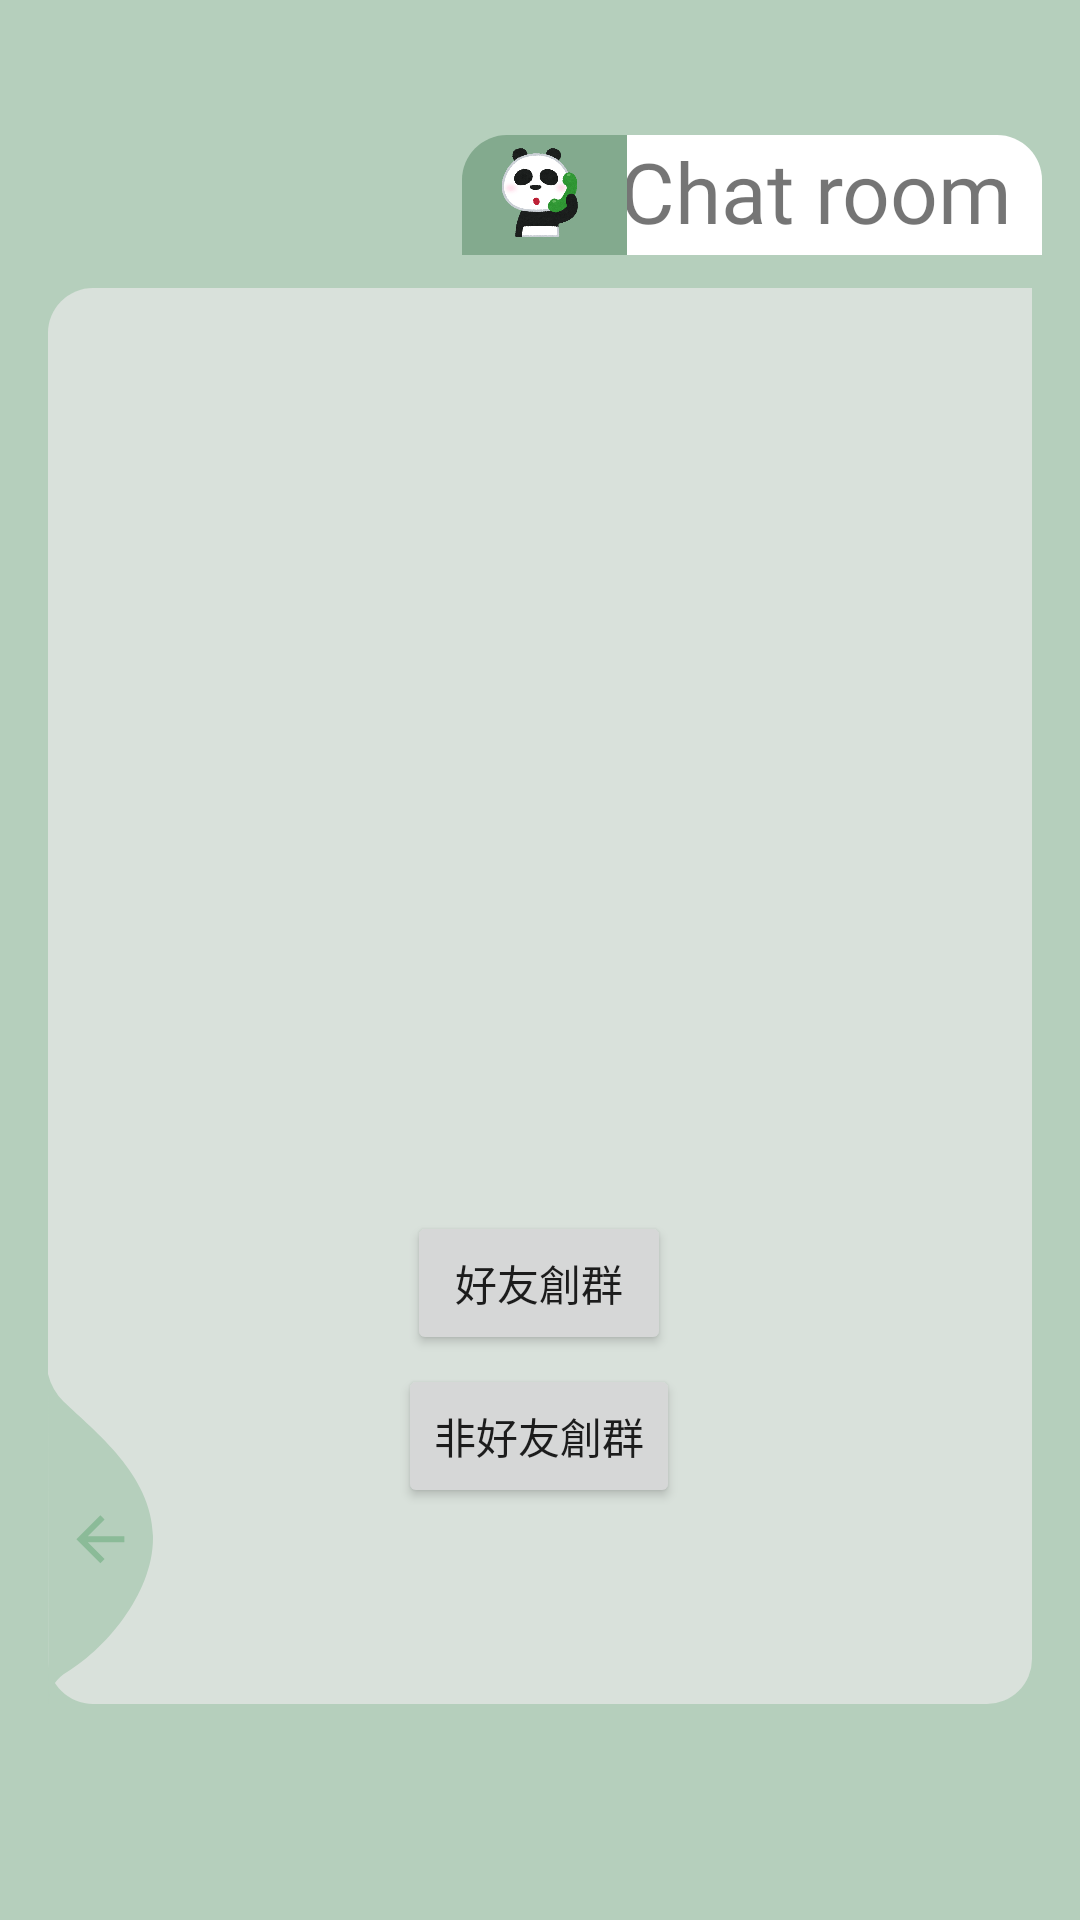

Icons on this 1080px x 1920px Android screen, each with the point to tap as (x=x, y=y):
back: (x=100, y=1539)
mark network status tsuuwachu: (x=544, y=195)
